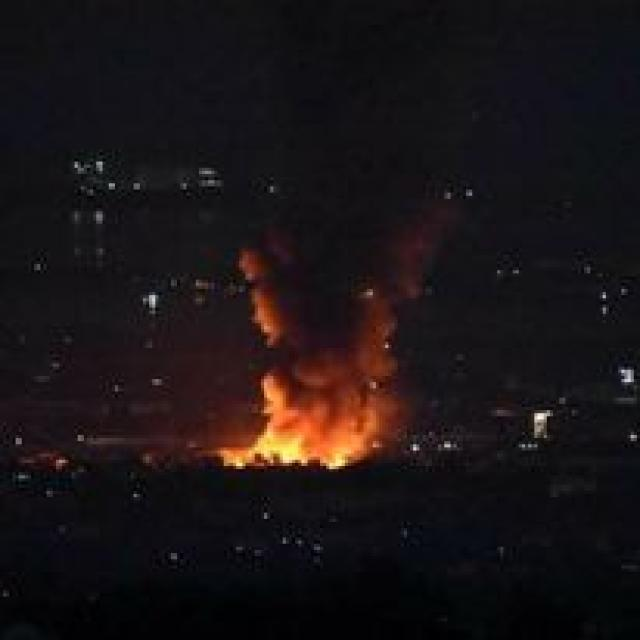Fire: (212, 423, 388, 466)
Smoke: (238, 70, 448, 427)
